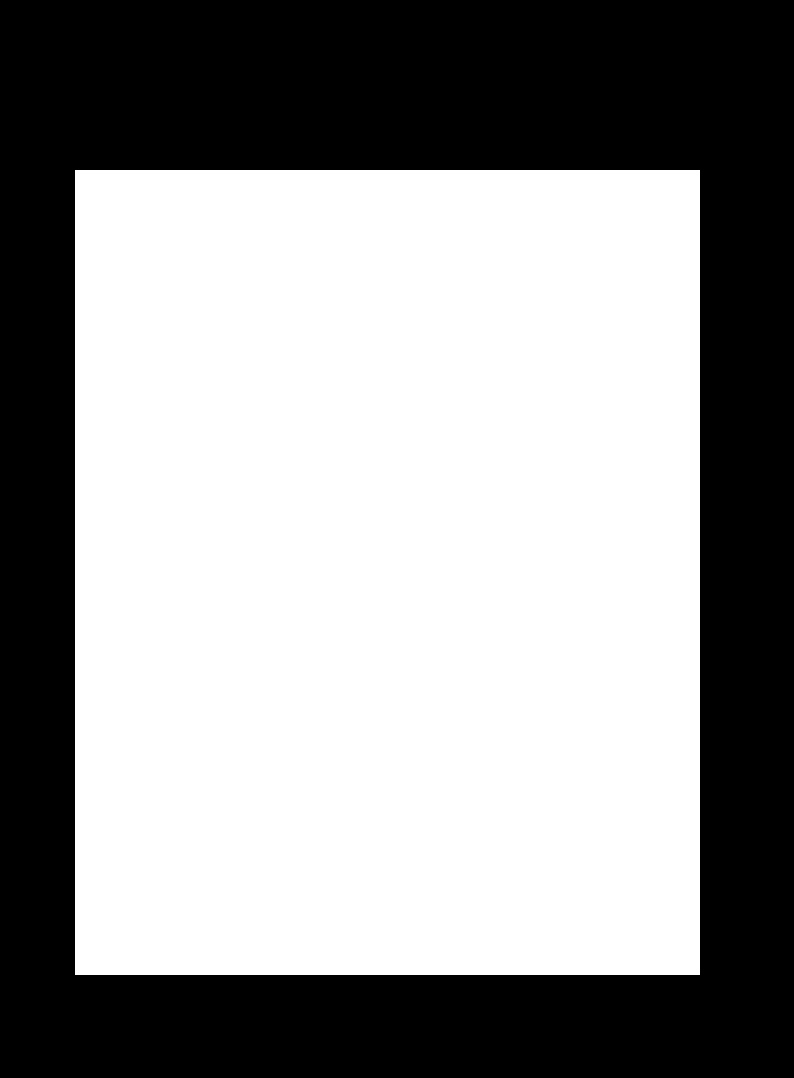table: (75, 170, 699, 974)
